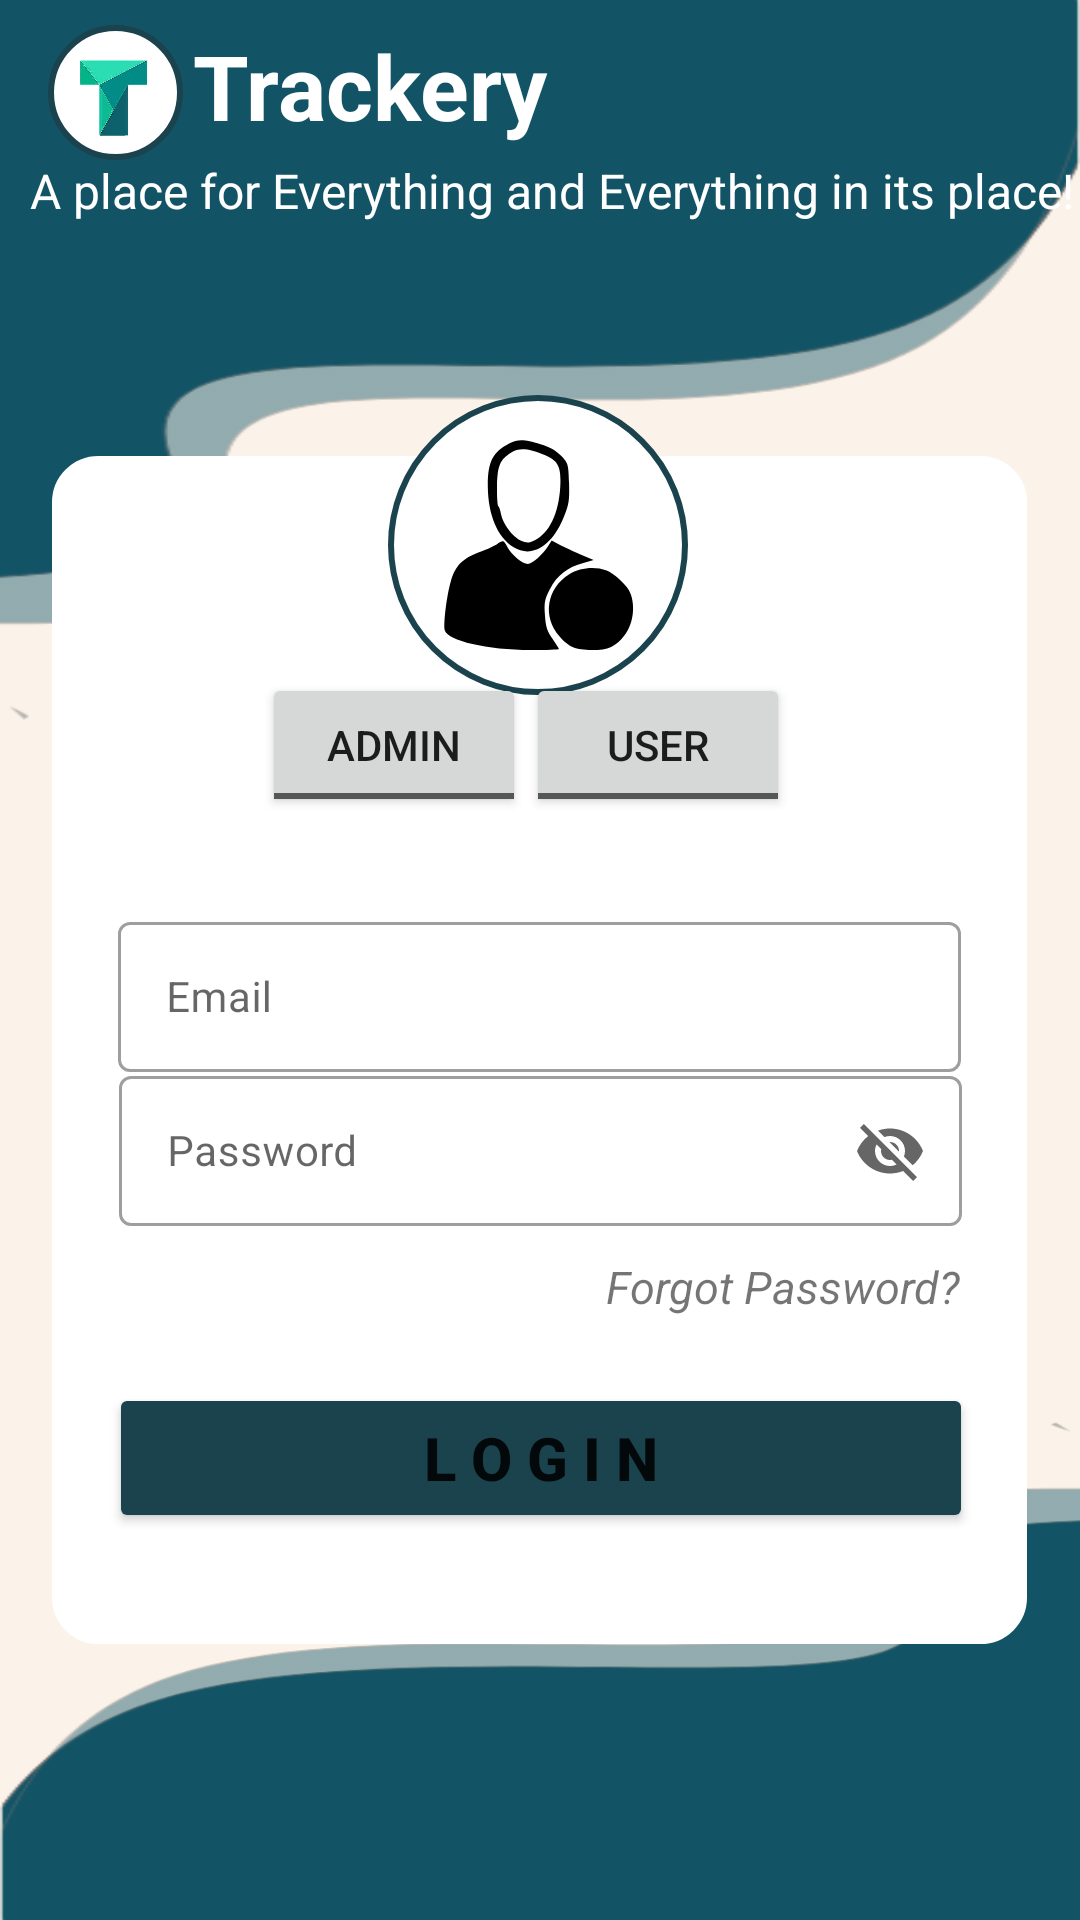

Icons on this 1080px×1920px Android screen, each with the point to tap as point (x, y):
loginn: point (538, 545)
